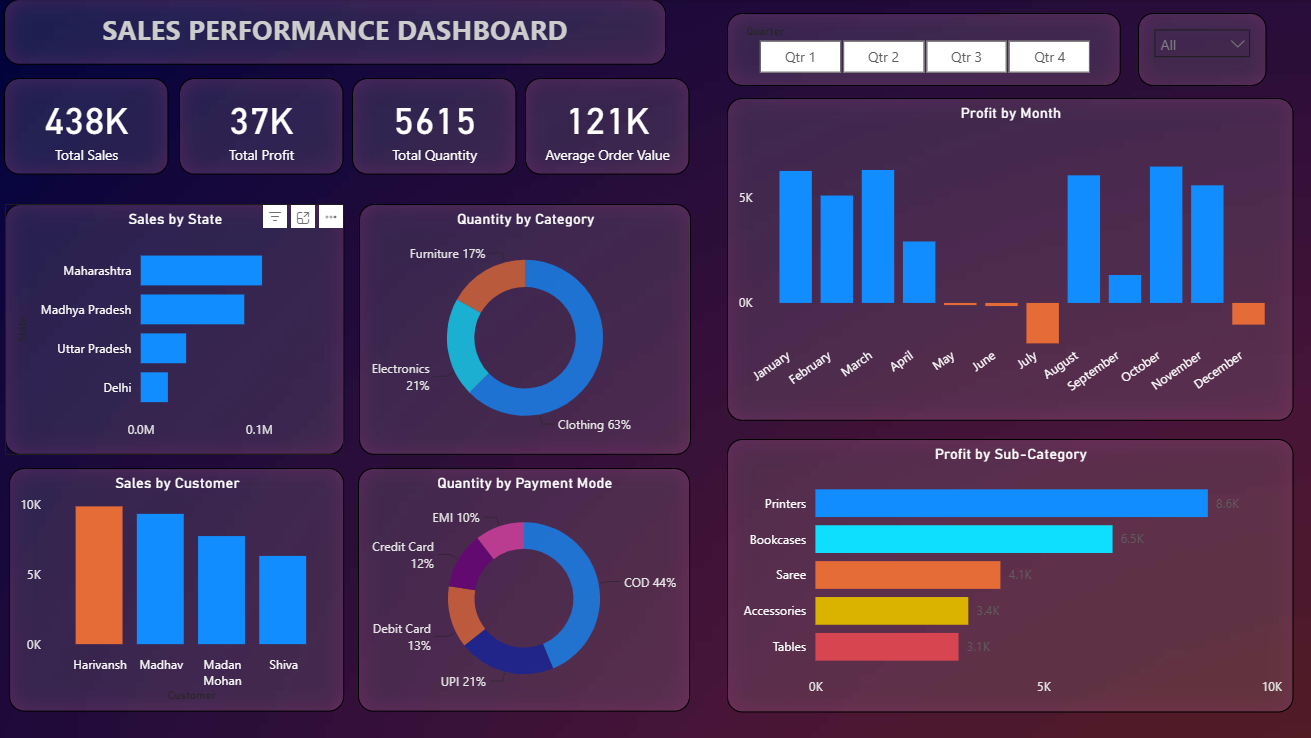

The dashboard page shown, as its layout file describes it:
{"tool":"powerbi","page":{"name":"Page 1","canvas":[1280,720],"ordinal":0},"visuals":[{"type":"textbox","box":[7.8,0,643.9,64.2],"z":0},{"type":"columnChart","title":" Profit by Month","fields":{"Y":["Sum(Details.Profit)"],"Category":["Orders.Order Date.Variation.Date Hierarchy.Month"]},"box":[711,96.3,550.5,314.2],"z":1000},{"type":"donutChart","fields":{"Category":["Details.Category"],"Y":["Sum(Details.Quantity)"]},"box":[353.1,199.4,322.9,244.1],"z":2000},{"type":"donutChart","fields":{"Y":["Sum(Details.Quantity)"],"Category":["Details.PaymentMode"]},"box":[352.1,456.2,322.9,237.3],"z":3000},{"type":"card","fields":{"Values":["Sum(Details.Amount)"]},"box":[7.8,76.8,160.5,94.3],"z":4000},{"type":"card","fields":{"Values":["Sum(Details.Profit)"]},"box":[178,76.8,160.5,94.3],"z":5000},{"type":"card","fields":{"Values":["Sum(Details.Quantity)"]},"box":[346.3,76.8,160.5,94.3],"z":6000},{"type":"card","fields":{"Values":["Sum(Details.AOV)"]},"box":[514.5,76.8,160.5,94.3],"z":7000},{"type":"barChart","fields":{"Category":["Orders.State"],"Y":["Sum(Details.Amount)"]},"box":[8.8,199.4,329.7,244.1],"z":8000},{"type":"barChart","fields":{"Category":["Details.Sub-Category"],"Y":["Sum(Details.Profit)"]},"box":[711,428,550.5,265.5],"z":9000},{"type":"columnChart","fields":{"Category":["Orders.CustomerName"],"Y":["Sum(Details.Amount)"]},"box":[12.6,456.2,325.8,237.3],"z":10000},{"type":"slicer","fields":{"Values":["Orders.Order Date.Variation.Date Hierarchy.Quarter"]},"box":[711,13.6,383.2,71],"z":11000},{"type":"slicer","fields":{"Values":["Orders.State"]},"box":[1110.8,13.6,125.5,71],"z":12000}]}

Visuals, with their boxes in screenshot pixels (x1, y1, x2, y2), scaled from the page's 1280x720 canvas onto the 1311x738 screenshot:
textbox: [8,0,667,66]
" Profit by Month" columnChart: [728,99,1292,421]
donutChart - Details.Category x Sum(Details.Quantity): [362,204,692,455]
donutChart - Sum(Details.Quantity) x Details.PaymentMode: [361,468,691,711]
card - Sum(Details.Amount): [8,79,172,175]
card - Sum(Details.Profit): [182,79,347,175]
card - Sum(Details.Quantity): [355,79,519,175]
card - Sum(Details.AOV): [527,79,691,175]
barChart - Orders.State x Sum(Details.Amount): [9,204,347,455]
barChart - Details.Sub-Category x Sum(Details.Profit): [728,439,1292,711]
columnChart - Orders.CustomerName x Sum(Details.Amount): [13,468,347,711]
slicer - Orders.Order Date.Variation.Date Hierarchy.Quarter: [728,14,1121,87]
slicer - Orders.State: [1138,14,1266,87]
